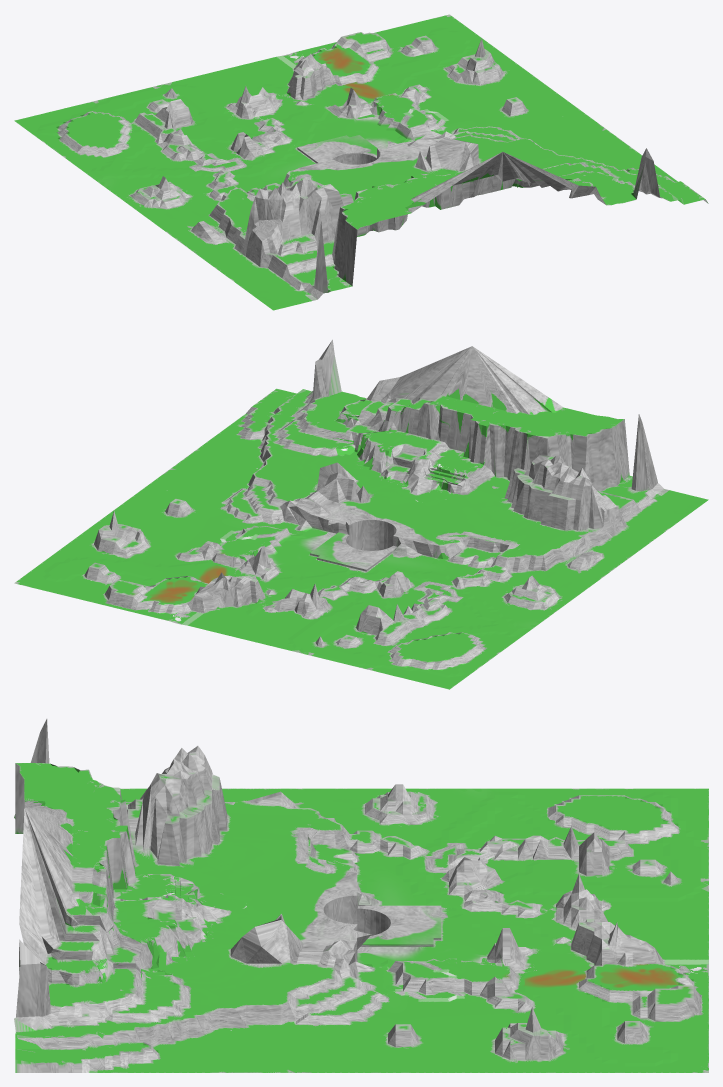
File: field.fbx
The picture shows the model from 3 angles, top to bottom: view 1: azimuth 30°, elevation 25°; view 2: azimuth 150°, elevation 25°; view 3: azimuth 270°, elevation 25°; orthographic projection. The views are drawn at different scales.
Visible parts, largest first — view 1: Plane; view 2: Plane; view 3: Plane.
Boxes of the visible parts, x1=… form: Plane: x1=14, y1=14, x2=708, y2=310; Plane: x1=14, y1=340, x2=708, y2=689; Plane: x1=14, y1=719, x2=708, y2=1072.
Bounding box in the file's own units: 10000 × 2634 × 10329.
Materials: 1 (1 with a texture image).
